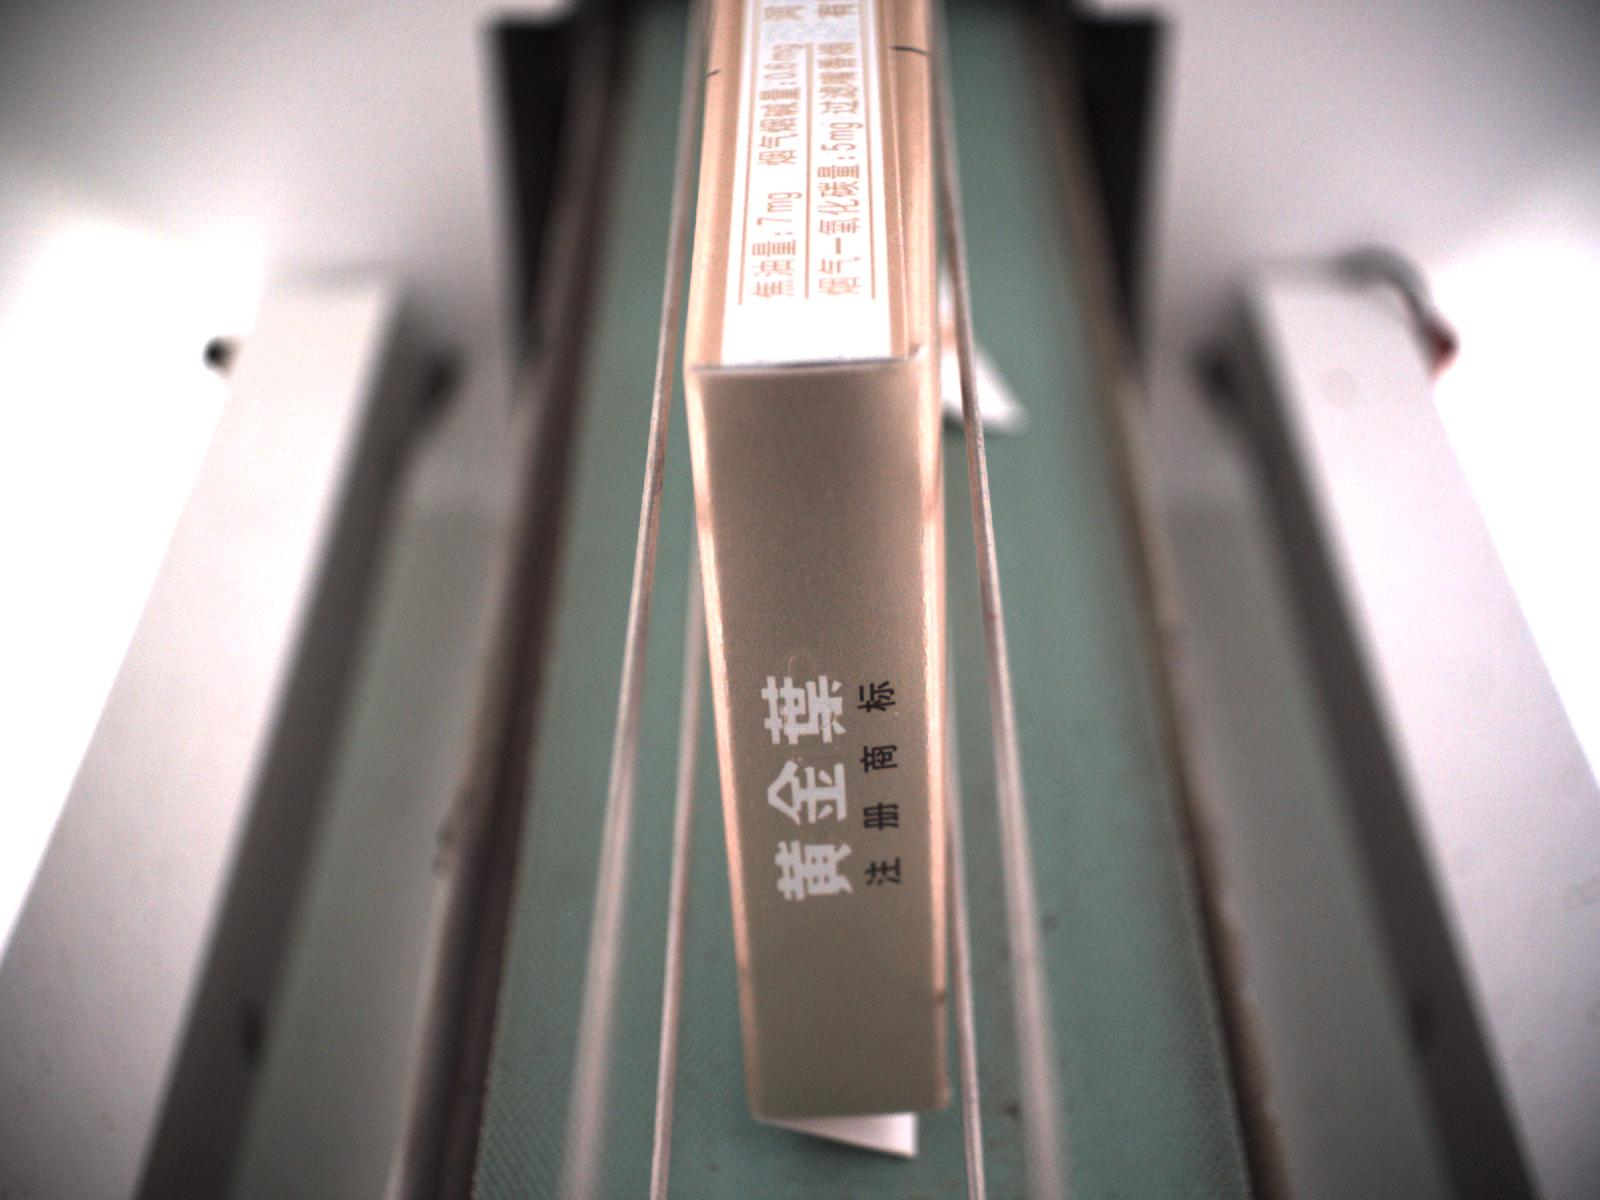skewed_bottom_3: (752, 1103, 944, 1162)
skewed_upper_3: (878, 1, 940, 369)
